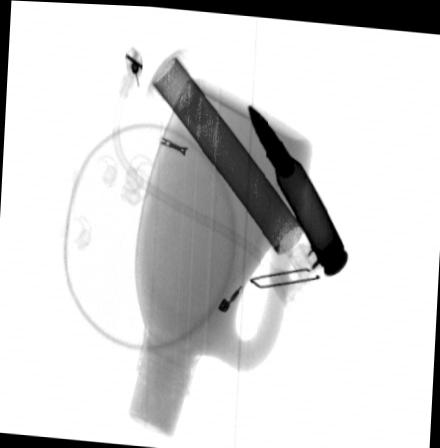Bullet: (246, 102, 348, 275)
